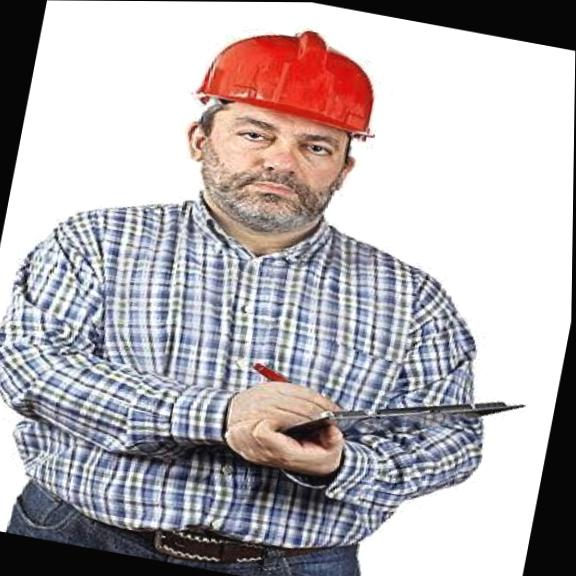no_safety_vest: (0, 177, 512, 576)
